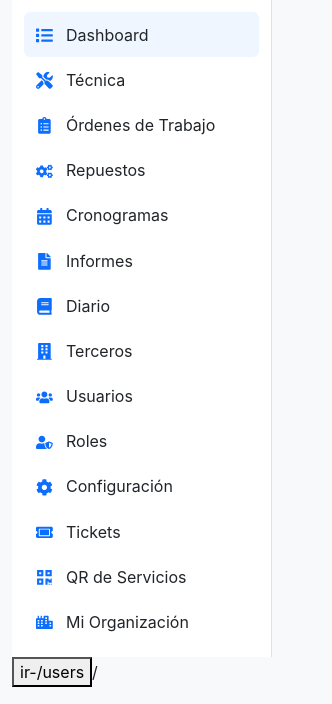
Test: Sidebar - compact mode › below the large-screen breakpoint the compact mode does not exist: drawer as always
The image size is (332, 704).
Click the link "Cronogramas".
click(117, 215)  # box [66,203,168,227]
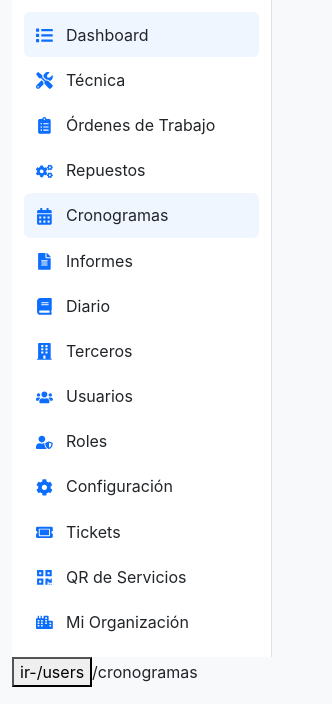
Result: the text with test id "ruta" reads "/cronogramas" at [92,662,198,682]
